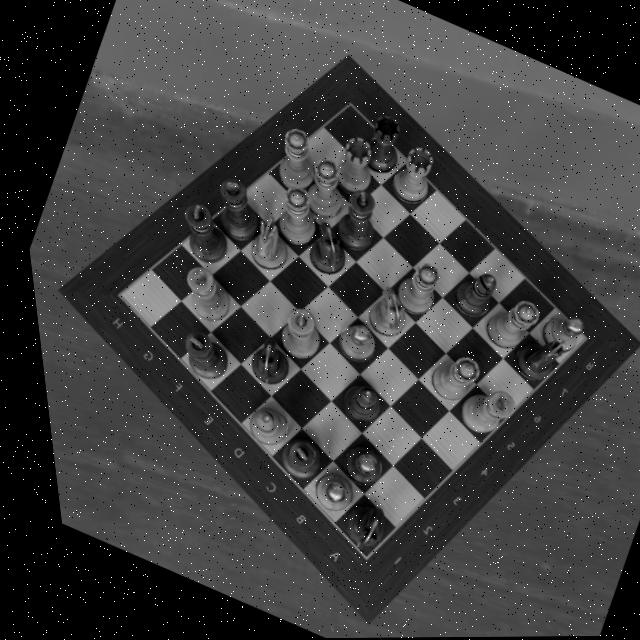chessboard: (113, 105, 578, 559)
